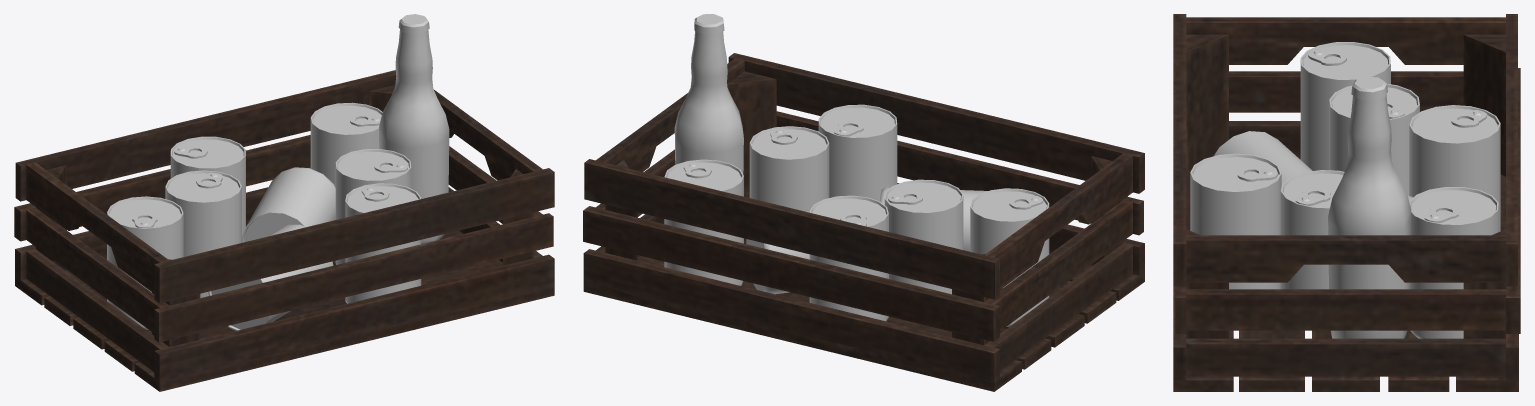
File: supply_crate_1_2.fbx
The picture shows the model from 3 angles, left to right: view 1: azimuth 30°, elevation 25°; view 2: azimuth 150°, elevation 25°; view 3: azimuth 270°, elevation 25°; orthographic projection. The views are drawn at different scales.
Visible parts, largest first — view 1: supply_crate_1_2; view 2: supply_crate_1_2; view 3: supply_crate_1_2.
Boxes of the visible parts, box(x1,y1,x2,y2) form: supply_crate_1_2: box(14, 14, 554, 391); supply_crate_1_2: box(583, 14, 1144, 391); supply_crate_1_2: box(1173, 14, 1520, 391).
Bounding box in the file's own units: 0.668 × 0.3725 × 0.4262.
